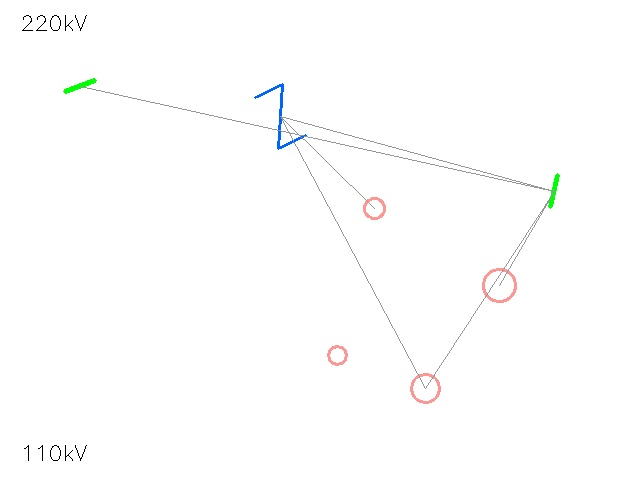busbar: (60, 66, 100, 106), (534, 171, 574, 211)
circuit_breaker: (249, 85, 311, 147)
feeder_terminal: (319, 337, 355, 373)
fuse: (397, 360, 453, 416)
load_break_switch: (466, 252, 532, 318)
surge_arrester: (353, 187, 395, 229)
